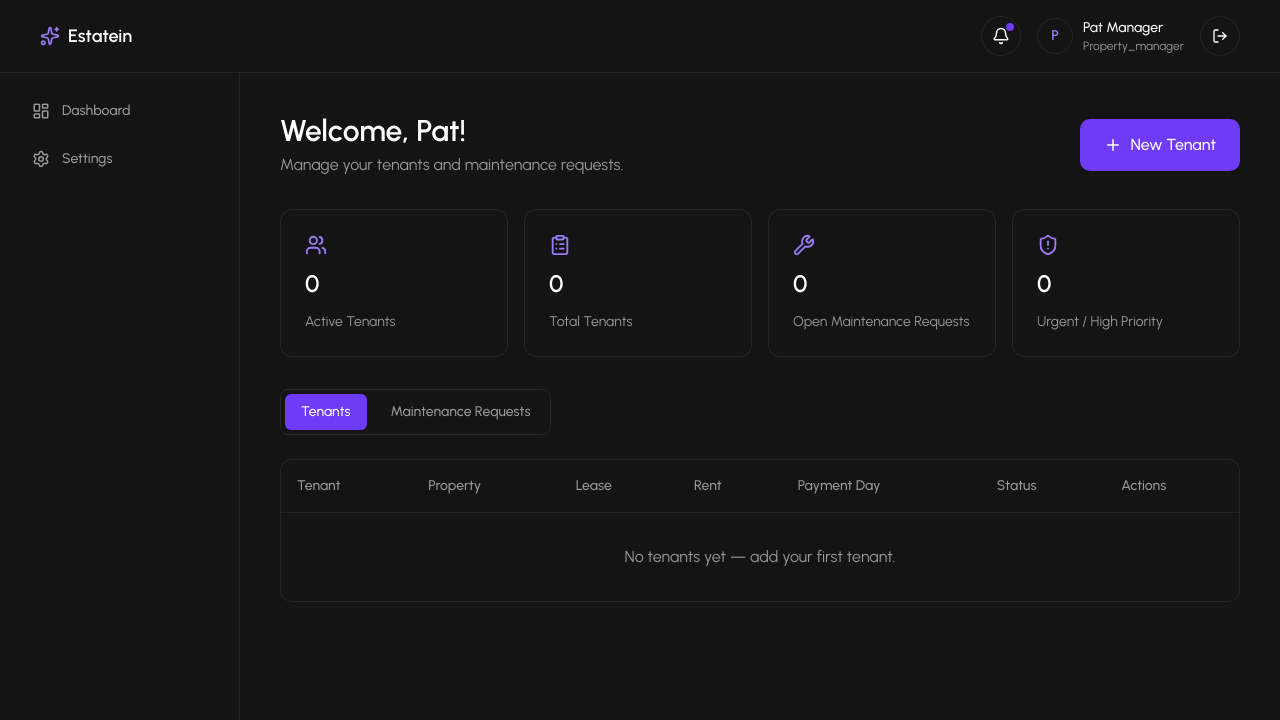
Test: PropertyManagerDashboard › renders the welcome header and empty states once data loads
Expected: the heading "Welcome, Pat!" is shown, [280, 112, 466, 149]
Expected: the text "No tenants yet — add your first tenant." is shown, [281, 512, 1239, 601]
Step 1. Click the button "Maintenance Requests" → (460, 412), box [374, 394, 546, 430]
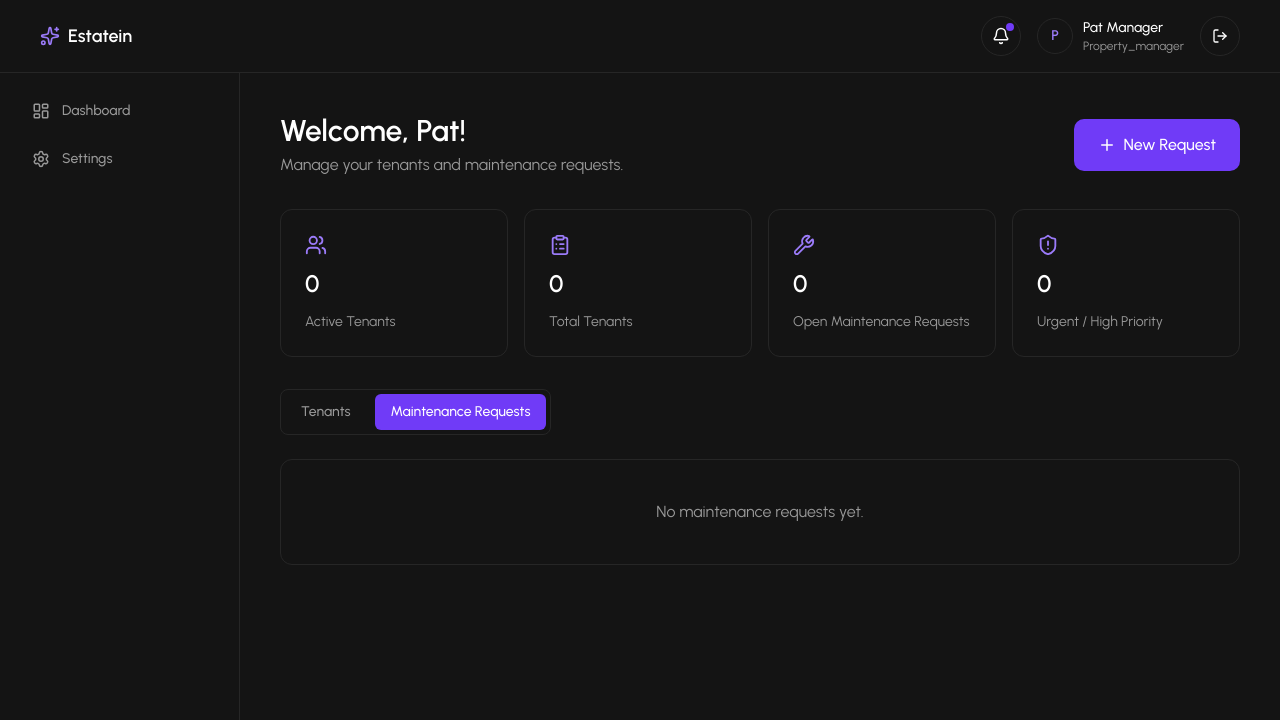
Expected: the text "No maintenance requests yet." is shown, [280, 459, 1240, 565]
